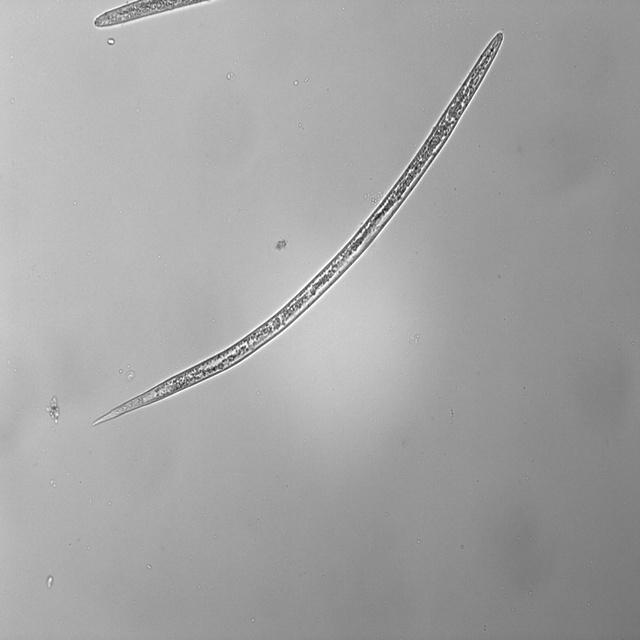Meloidogyne: (86, 29, 508, 426)
